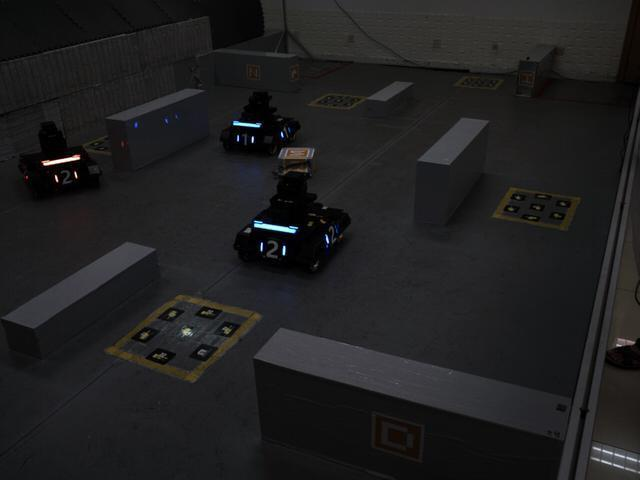armor: (257, 236, 289, 263), (48, 167, 81, 188), (320, 222, 343, 249), (233, 130, 258, 149), (278, 124, 294, 142)
